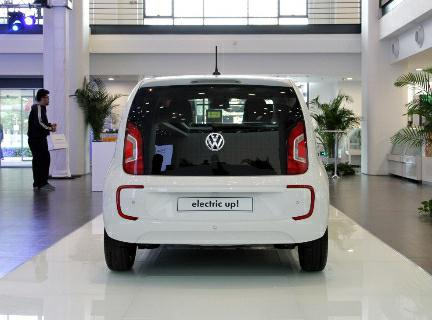大众-e-up!: (95, 67, 336, 280)
